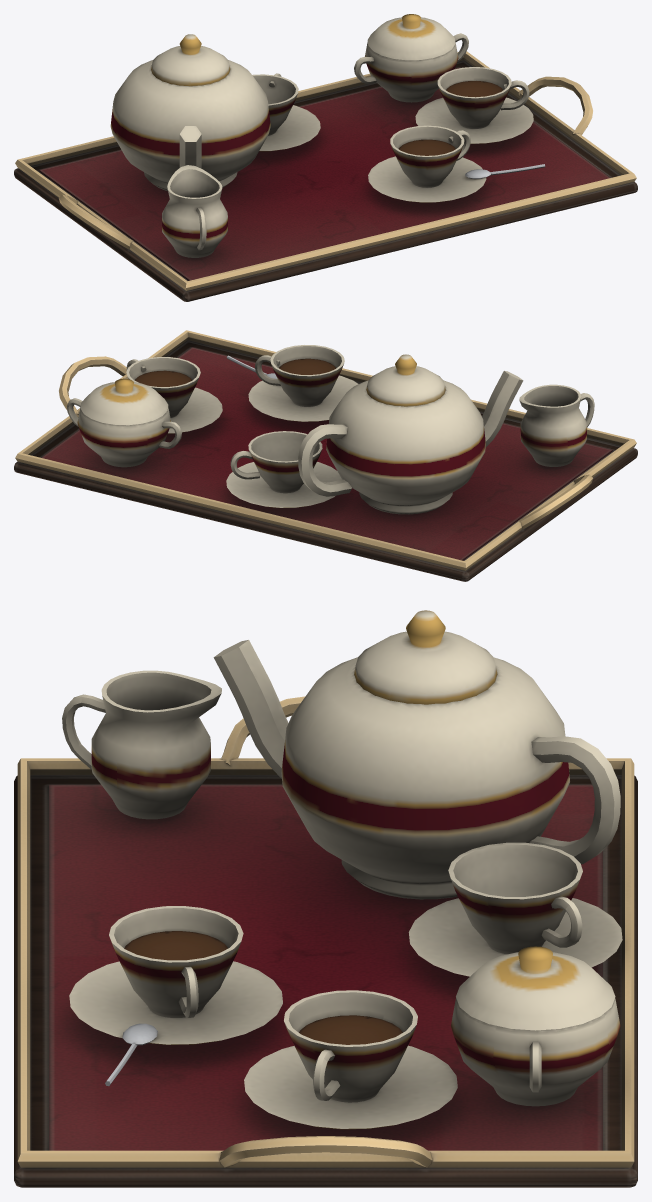
File: TeaSet.fbx
The picture shows the model from 3 angles, top to bottom: view 1: azimuth 30°, elevation 25°; view 2: azimuth 150°, elevation 25°; view 3: azimuth 270°, elevation 25°; orthographic projection. The views are drawn at different scales.
Visible parts, largest first — view 1: TeaSet; view 2: TeaSet; view 3: TeaSet.
Boxes of the visible parts, left/top/right/bottom form: TeaSet: left=14, top=14, right=637, bottom=301; TeaSet: left=14, top=330, right=637, bottom=581; TeaSet: left=14, top=610, right=637, bottom=1187.
Bounding box in the file's own units: 213 × 62 × 125.
